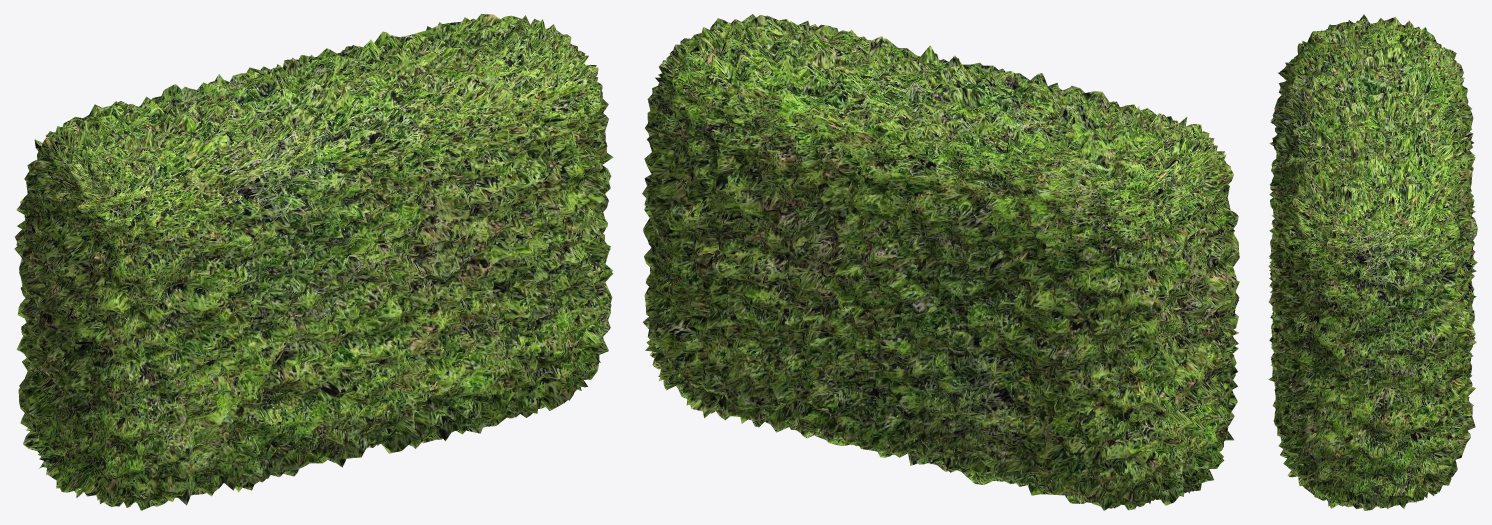
Rendered from hedge.glb.
3 renders of one model, left to right at view 1: azimuth 30°, elevation 25°; view 2: azimuth 150°, elevation 25°; view 3: azimuth 270°, elevation 25°, orthographic. The views are drawn at different scales.
Visible parts, largest first — view 1: Object_2; view 2: Object_2; view 3: Object_2.
Part boxes in pixels (bbox=[...]): Object_2: bbox=[14, 14, 613, 510]; Object_2: bbox=[642, 14, 1239, 510]; Object_2: bbox=[1268, 14, 1477, 510].
Size of the model in its own units: 155 by 100 by 59.38.
Materials: 1 (1 with a texture image).
